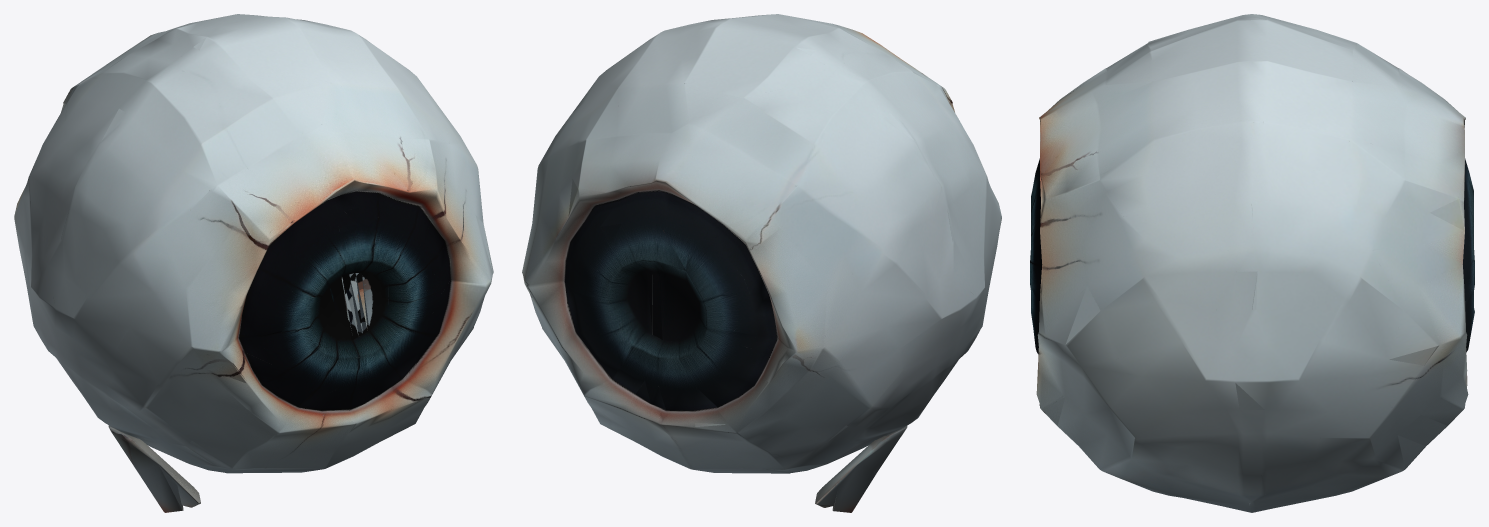
Rendered from Meshy_AI_low_poly_stylized_eye_0814013426_texture.fbx.
3 renders of one model, left to right at view 1: azimuth 30°, elevation 25°; view 2: azimuth 150°, elevation 25°; view 3: azimuth 270°, elevation 25°, orthographic. The views are drawn at different scales.
Parts seen in each view (by area): view 1: mesh_node; view 2: mesh_node; view 3: mesh_node.
Boxes of the visible parts, x1,y1,x2,y2 form: mesh_node: (14,14,493,512); mesh_node: (522,14,1001,512); mesh_node: (1030,14,1474,512).
Size of the model in its own units: 179 by 191 by 158.
1 material, 1 textured.
